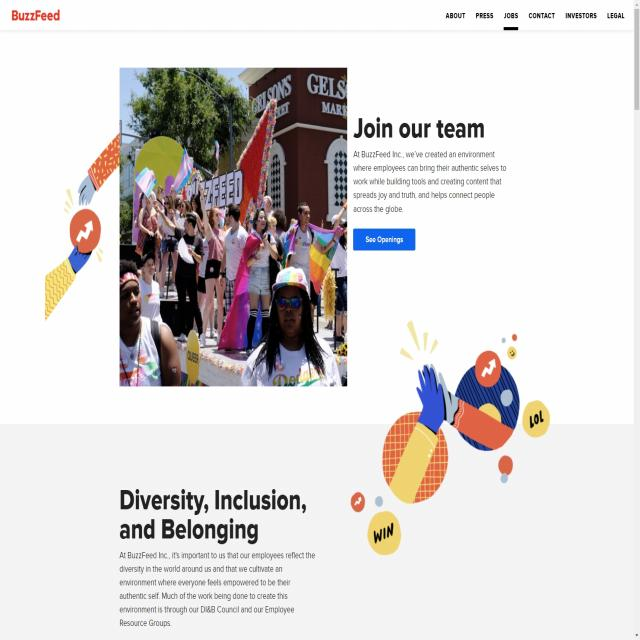menu-bar: (440, 4, 628, 32)
